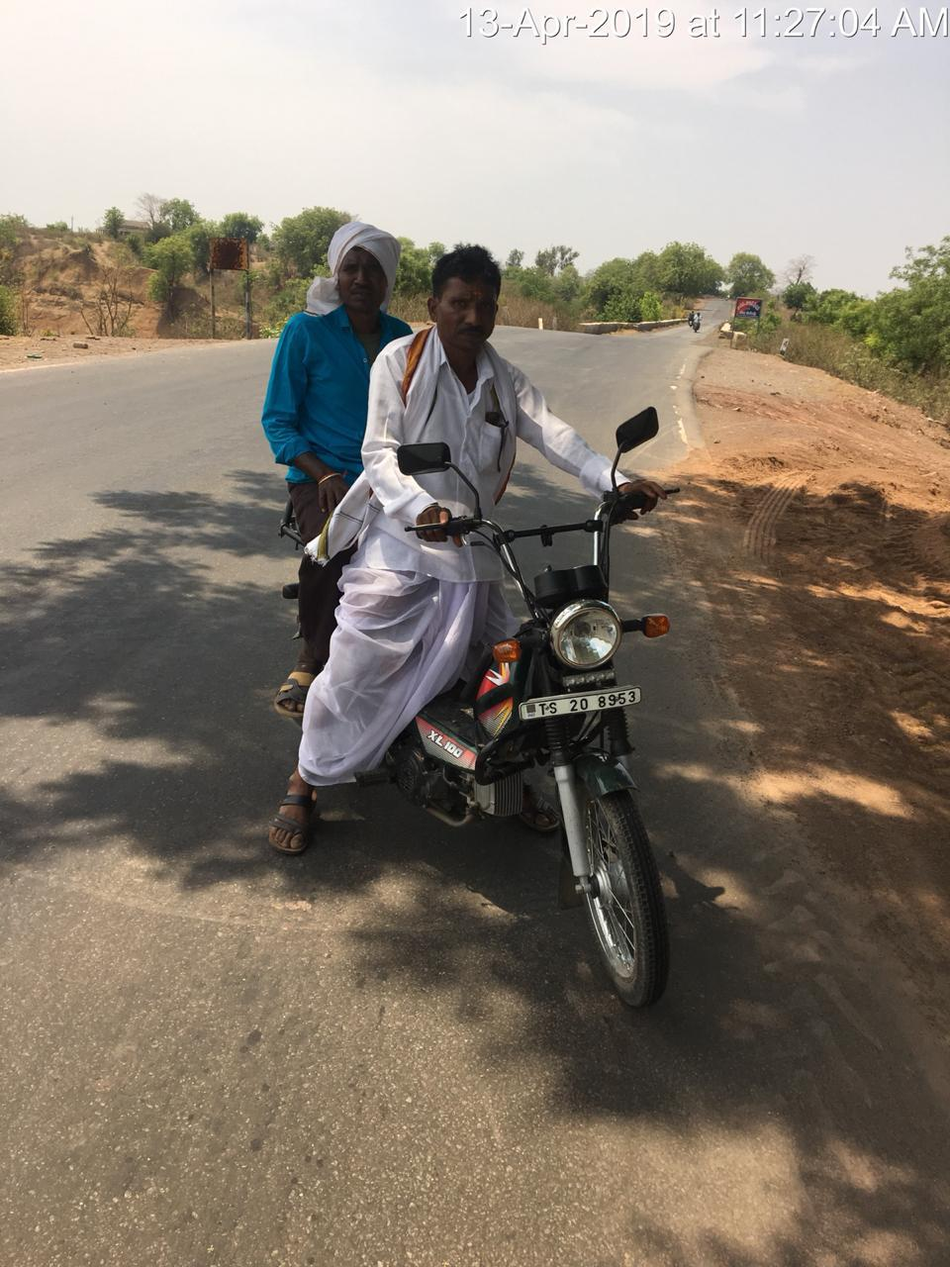plate: (508, 683, 657, 728)
